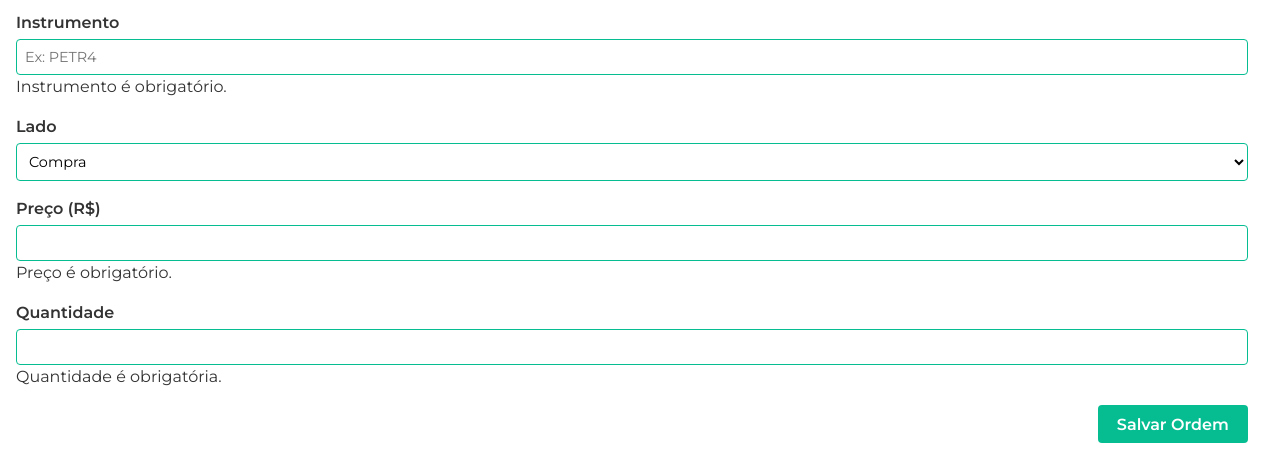
CreateOrderForm › habilita o botão quando o formulário é válido
The image size is (1265, 460).
Step 1. Type "PETR4" into the field labelled "Instrumento" → (632, 57), box [16, 39, 1248, 75]
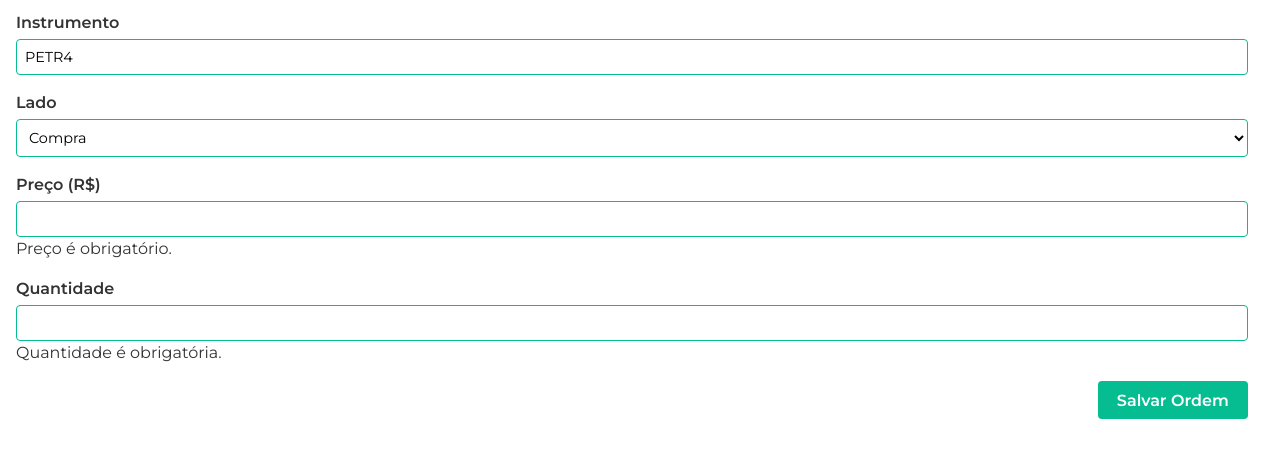
Step 2. Type "10.50" into the number field labelled "Preço (R$)" → (632, 219), box [16, 201, 1248, 237]
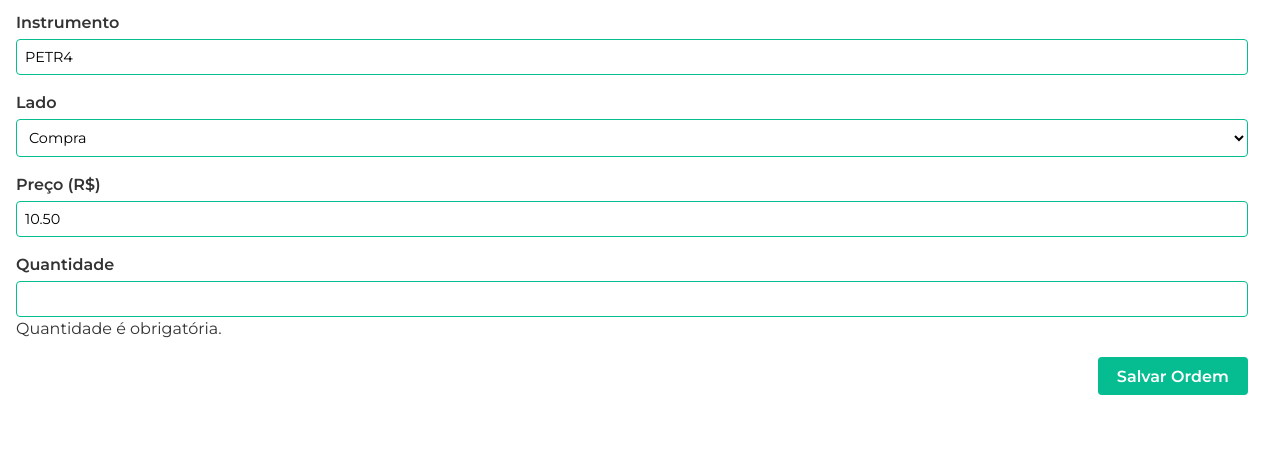
Step 3. Type "100" into the number field labelled "Quantidade" → (632, 299), box [16, 281, 1248, 317]
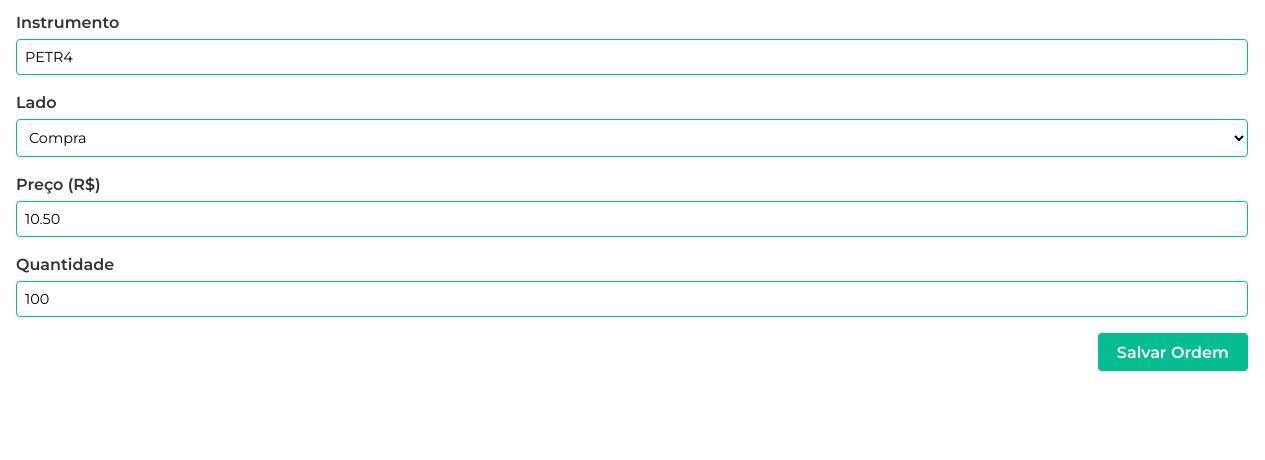
Expected: the text "é obrigatório." is not shown
Now the button "Salvar Ordem" is enabled, box [1098, 333, 1248, 371]
